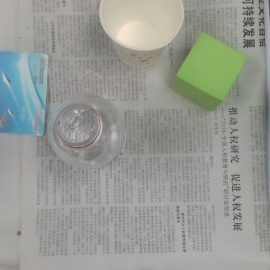bottle: (48, 95, 124, 172)
card: (1, 51, 48, 139)
cup: (96, 1, 185, 76)
